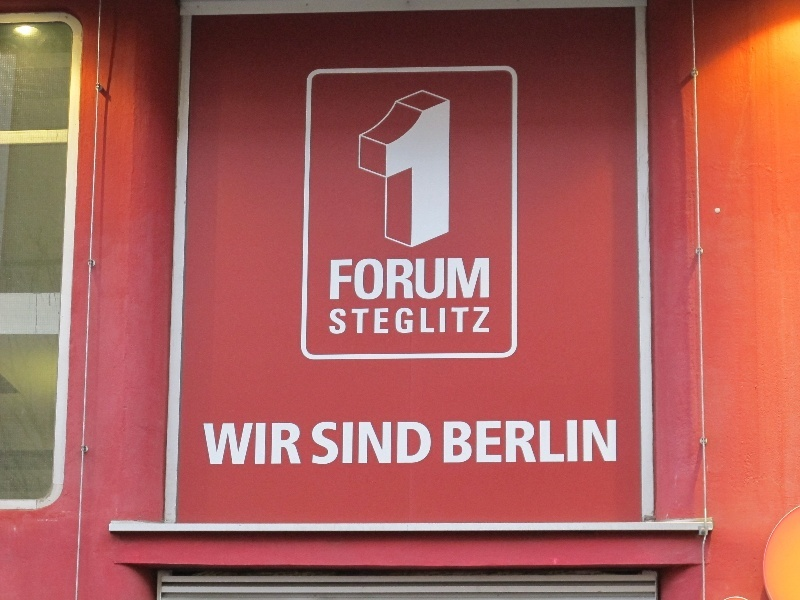text: (337, 85, 352, 264), (353, 85, 368, 264), (369, 85, 384, 264), (385, 85, 400, 264), (401, 85, 416, 264), (417, 85, 432, 264), (433, 85, 448, 264), (337, 257, 352, 302), (353, 257, 368, 302), (369, 257, 384, 302), (385, 257, 400, 302), (401, 257, 416, 302), (417, 257, 432, 302), (433, 257, 448, 302), (449, 257, 464, 302), (465, 257, 480, 302), (449, 420, 464, 464), (465, 420, 480, 464), (481, 420, 496, 464), (497, 420, 512, 464), (513, 420, 528, 464), (529, 420, 544, 464), (545, 420, 560, 464), (561, 420, 576, 464), (577, 420, 592, 464), (593, 420, 608, 464), (321, 422, 336, 465), (337, 422, 352, 465), (353, 422, 368, 465), (369, 422, 384, 465), (385, 422, 400, 465), (401, 422, 416, 465), (209, 423, 224, 465), (225, 423, 240, 465), (241, 423, 256, 465), (257, 423, 272, 465), (273, 423, 288, 465), (417, 422, 431, 465), (289, 423, 302, 465), (481, 257, 491, 302), (337, 306, 352, 336), (353, 306, 368, 336), (369, 306, 384, 336), (385, 306, 400, 336), (401, 306, 416, 336), (417, 306, 432, 336), (433, 306, 448, 336), (449, 306, 464, 336), (465, 306, 480, 336), (449, 85, 451, 264), (609, 420, 617, 464), (481, 306, 492, 336), (313, 422, 320, 465), (330, 257, 336, 302), (329, 306, 336, 336), (203, 423, 208, 465), (444, 420, 448, 464)
